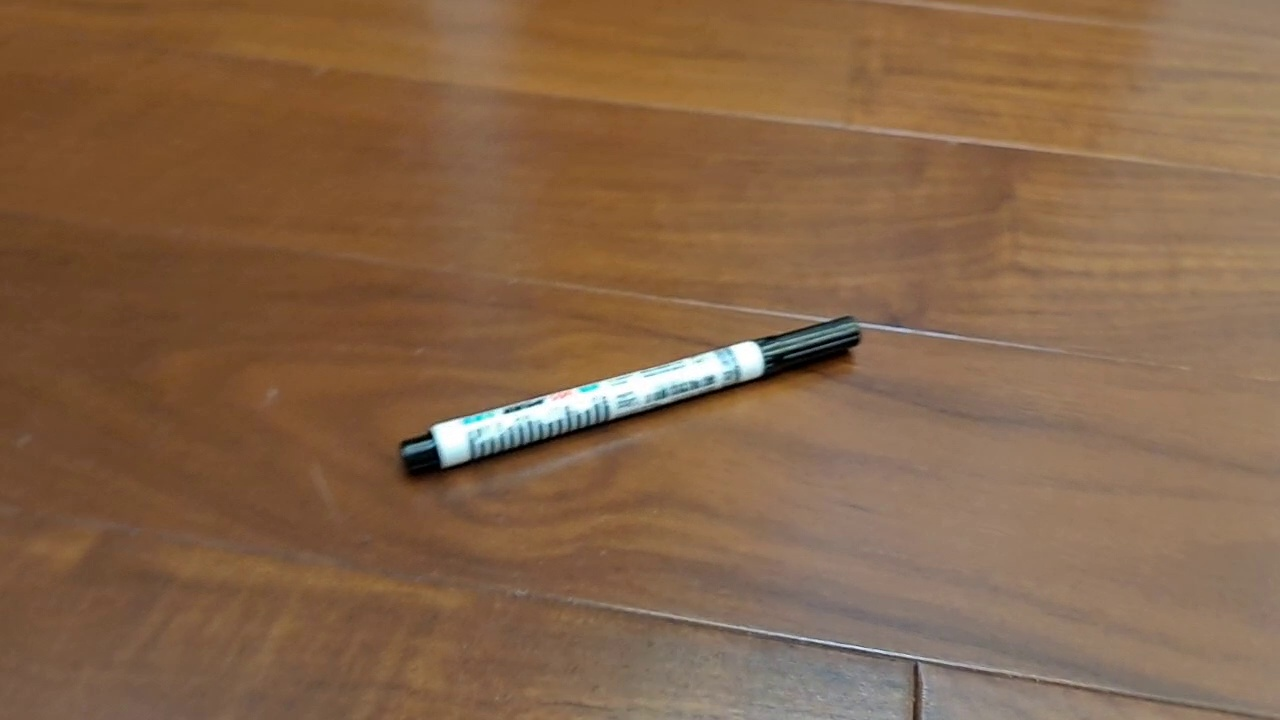pen: (398, 314, 863, 478)
